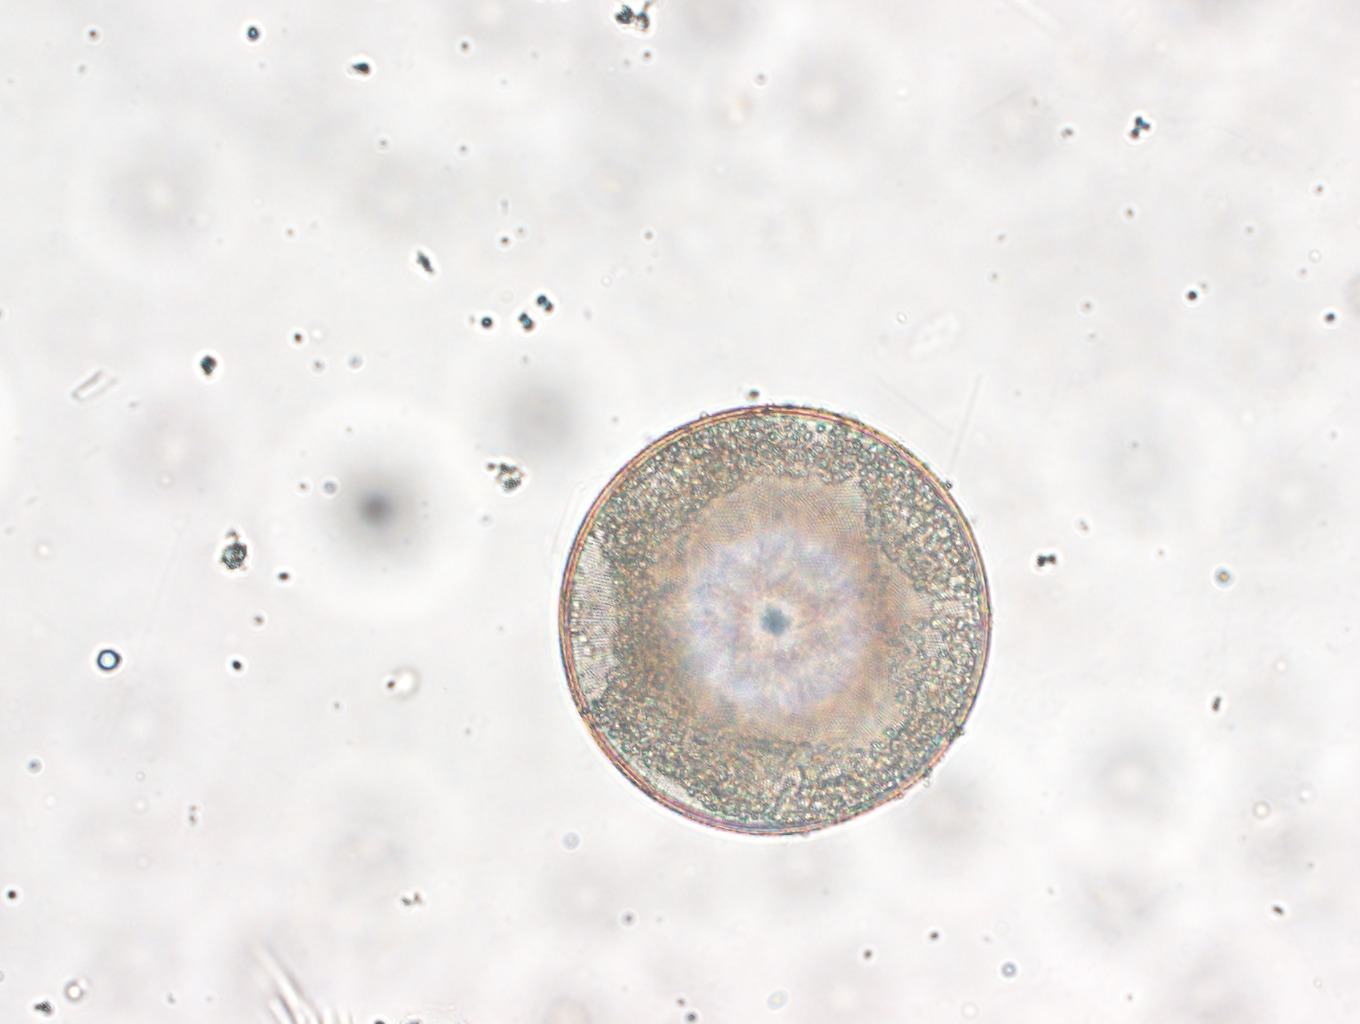coscinodiscus: (558, 403, 994, 837)
